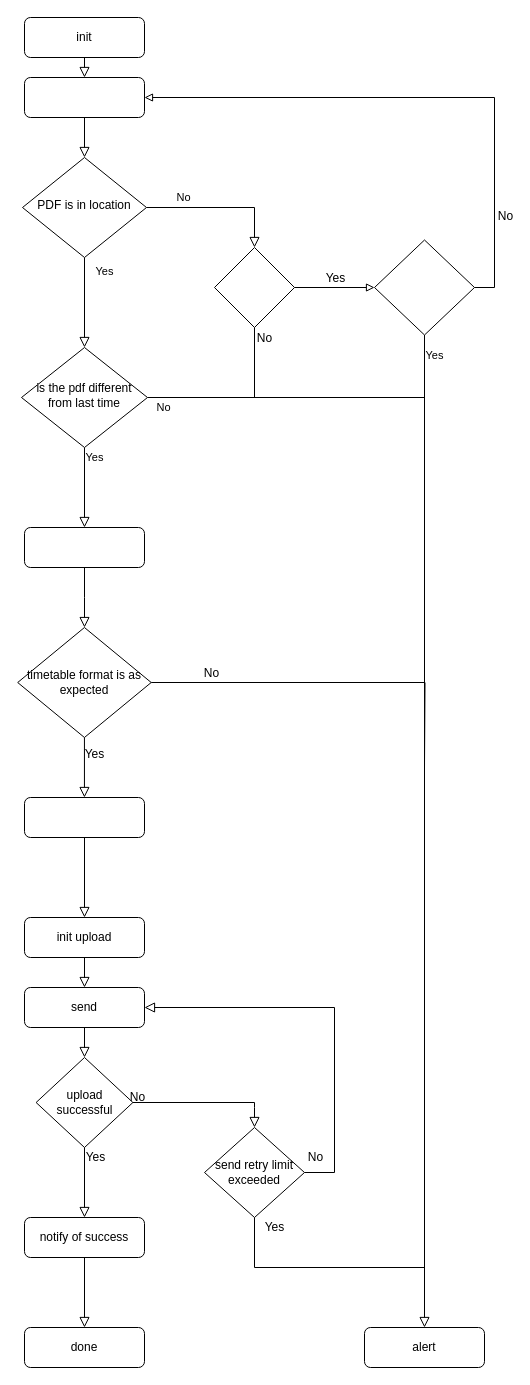
Some shapes in this 530 by 1385 pixel diagram are drawn without their labels. The box of each missing label's shape, as (x1, y1, x2, y2) in pixels:
error is 50x: (214, 246, 294, 328)
extract: (24, 796, 144, 838)
fetch pdf: (24, 76, 144, 118)
fetch retry limit exceeded: (374, 239, 474, 335)
verify format: (24, 526, 144, 568)
